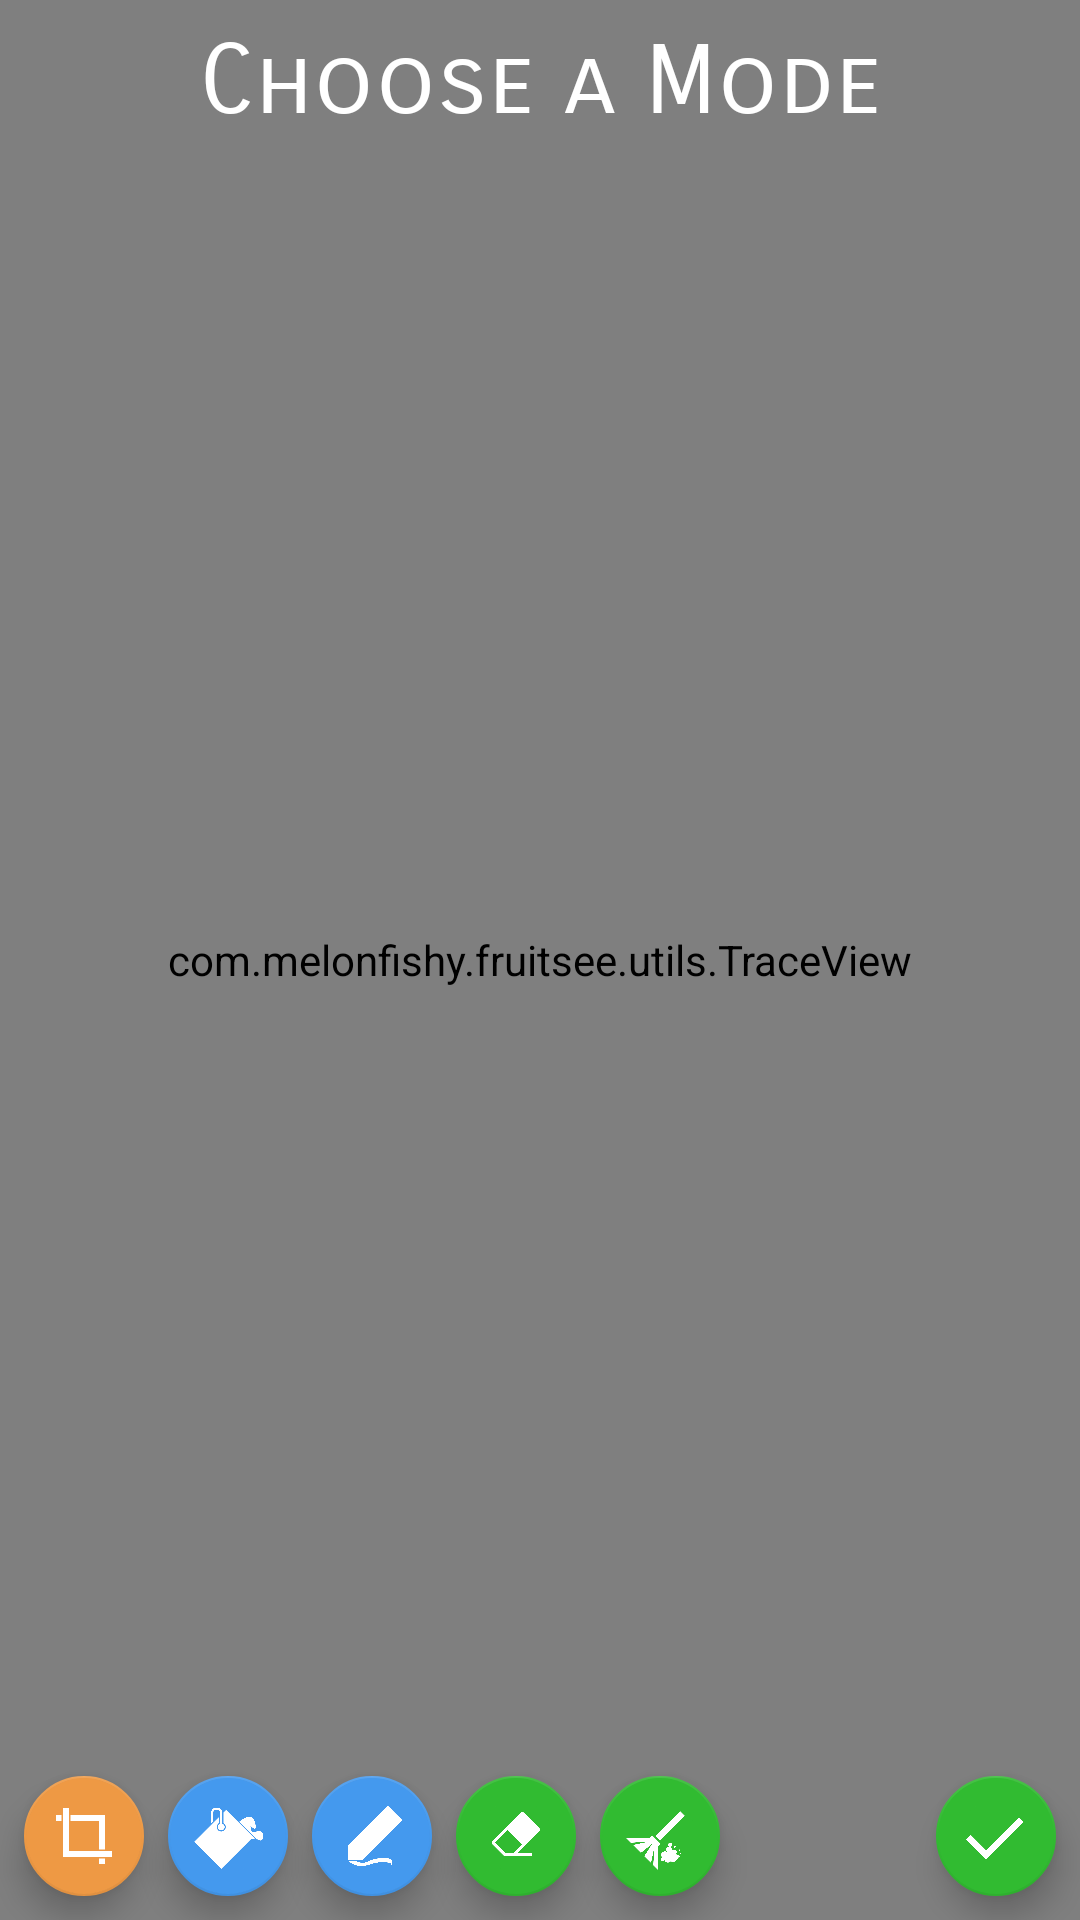

Screen size 1080x1920. Icon name, then its center in pixels as point (x, y):
check: point (996, 1836)
clean: point (660, 1836)
crop: point (84, 1836)
erase: point (516, 1836)
